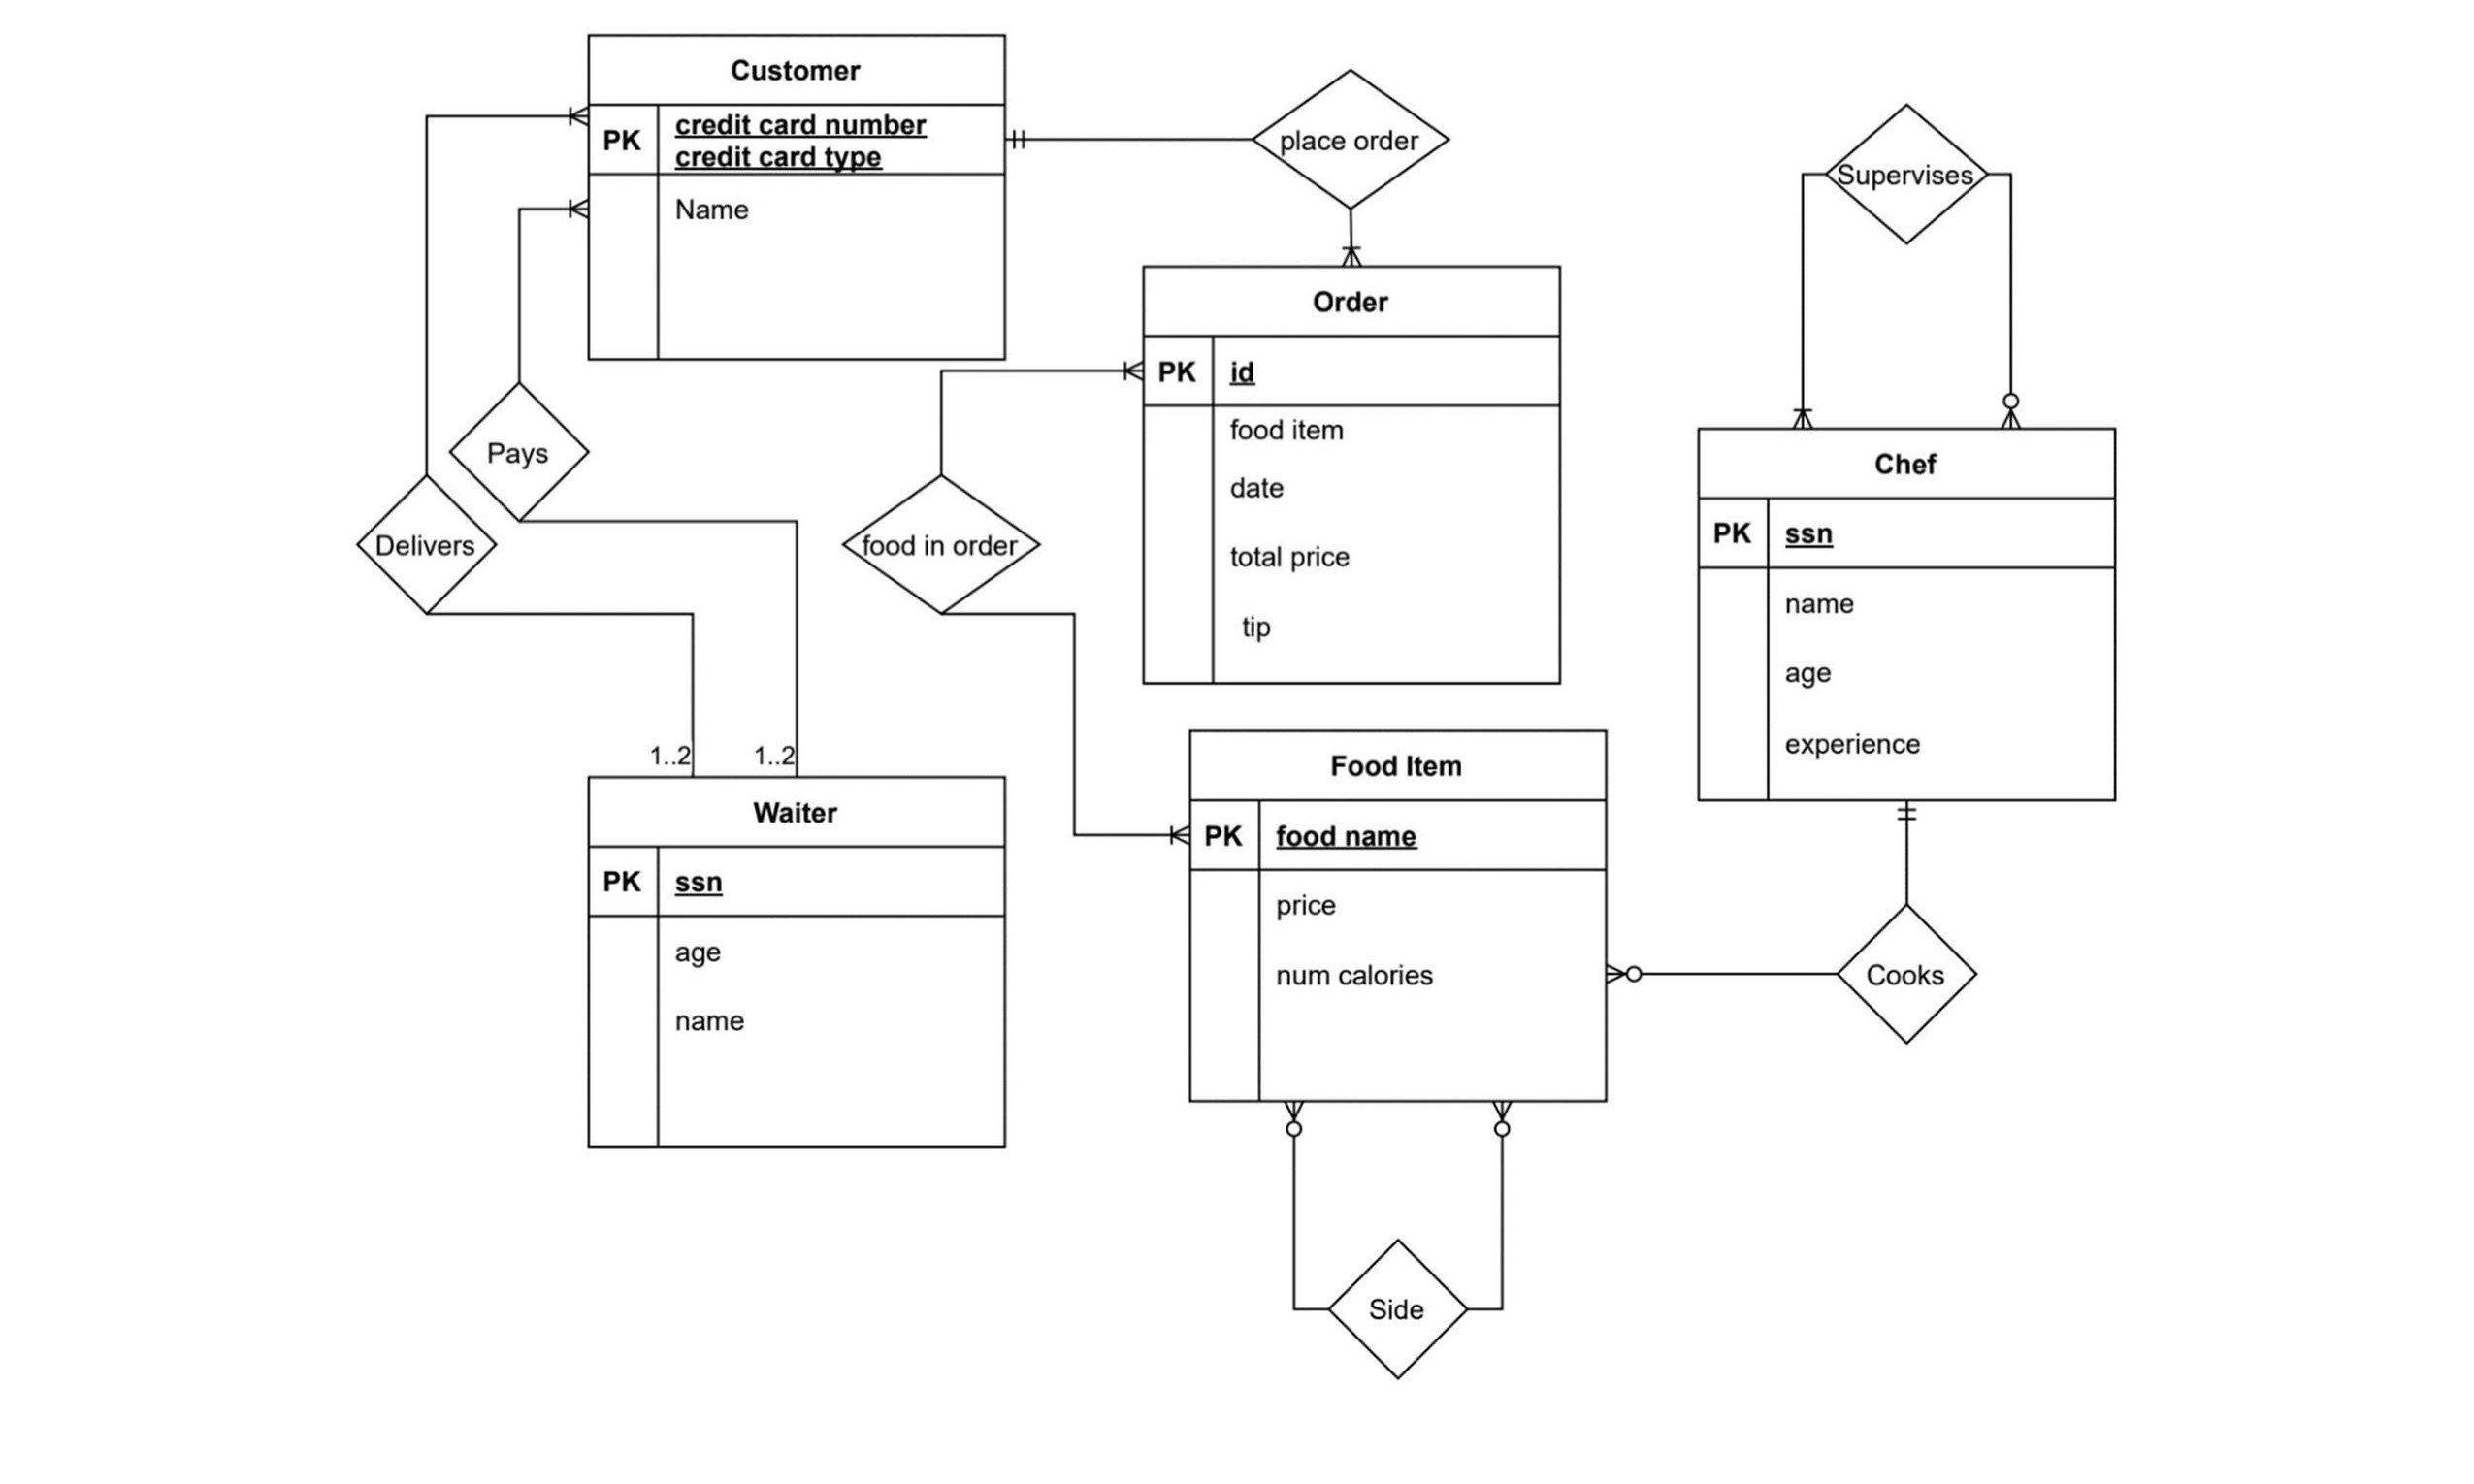Entity: (1142, 263, 1562, 687), (1696, 426, 2119, 802), (1188, 728, 1610, 1104), (585, 776, 1007, 1150), (587, 34, 1009, 362)
Relationship: (839, 475, 1043, 613), (1253, 69, 1451, 207), (1825, 104, 1986, 244), (1327, 1238, 1468, 1382), (1836, 905, 1977, 1046), (355, 475, 498, 615), (449, 383, 590, 521)
